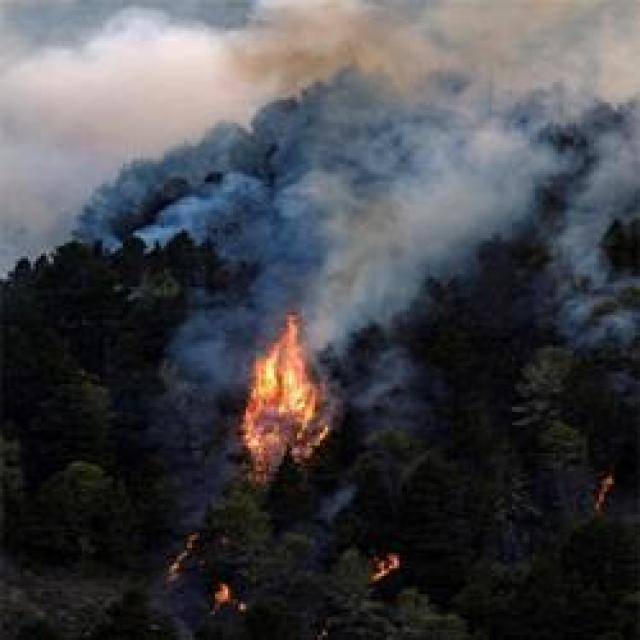Fire: (244, 312, 332, 485), (371, 555, 402, 585)
Smoke: (0, 0, 640, 304)
